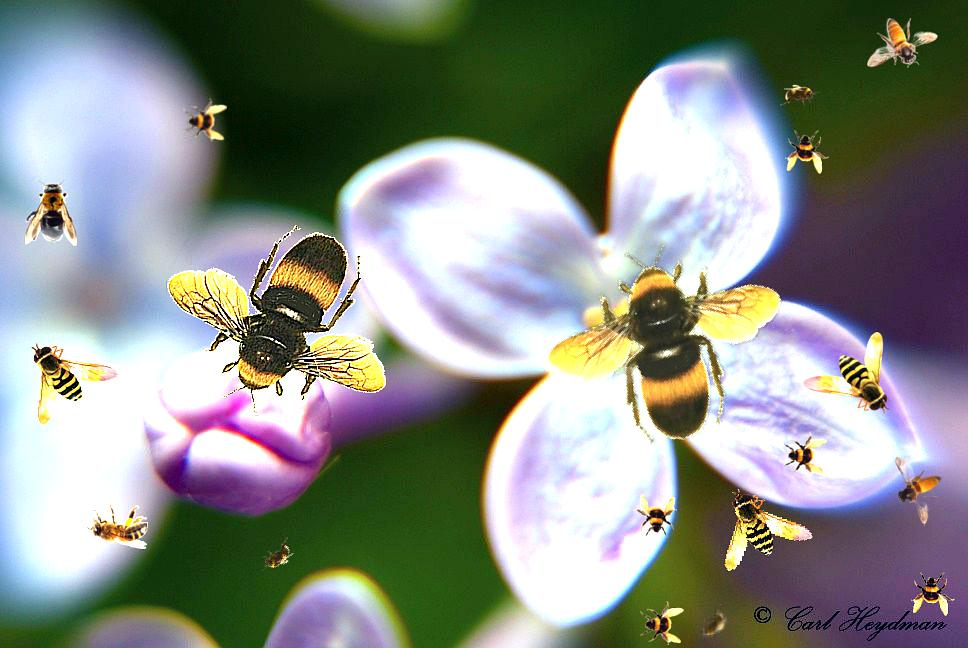Bee: (527, 194, 819, 483), (166, 225, 386, 416), (716, 487, 820, 587), (31, 343, 119, 425), (802, 332, 890, 414), (867, 18, 938, 68), (893, 455, 943, 526), (25, 178, 77, 246), (82, 504, 148, 549), (690, 603, 736, 647), (783, 432, 827, 476), (640, 601, 684, 645), (633, 494, 677, 538), (911, 572, 955, 616), (183, 98, 227, 142), (785, 130, 829, 174), (254, 536, 300, 578), (780, 84, 820, 106)
